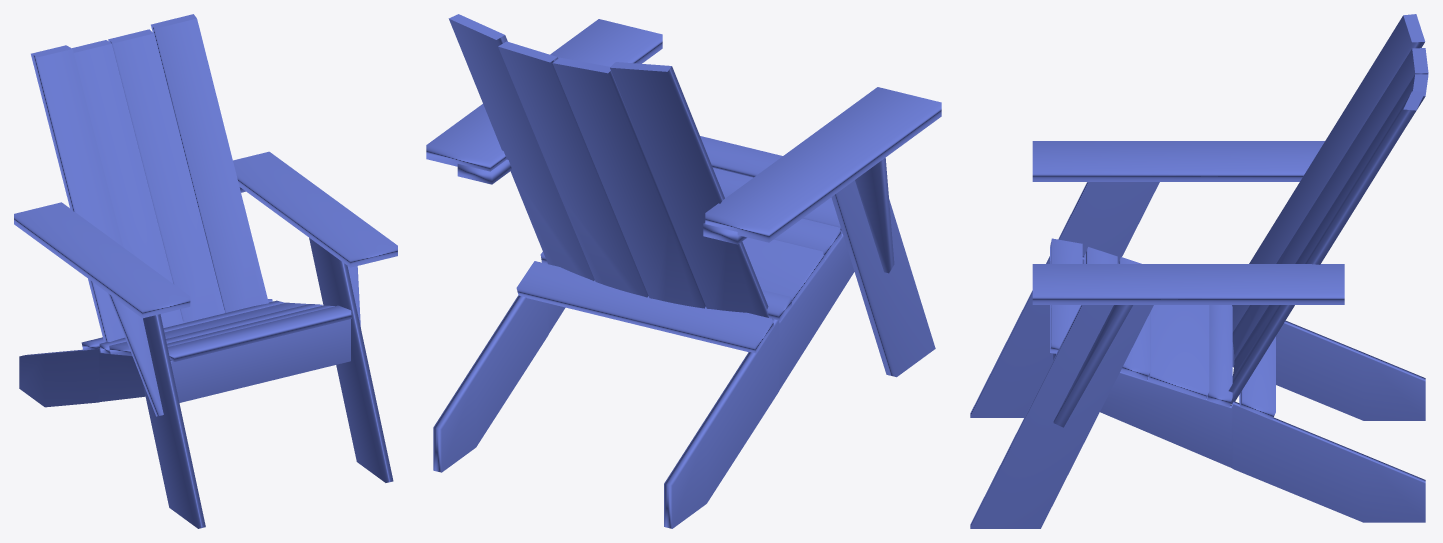
The picture shows the model from 3 angles, left to right: view 1: azimuth 30°, elevation 25°; view 2: azimuth 150°, elevation 25°; view 3: azimuth 270°, elevation 25°; orthographic projection. The views are drawn at different scales.
Visible parts, largest first — view 1: AdirondackChair.005; view 2: AdirondackChair.005; view 3: AdirondackChair.005.
Part boxes in pixels (x1,y1,x2,y2): AdirondackChair.005: (14, 14, 397, 528); AdirondackChair.005: (426, 14, 941, 528); AdirondackChair.005: (970, 14, 1428, 528).
Size of what is drawn, in the model's own units: 1.07 by 1.35 by 1.37.
1 material, 1 textured.
